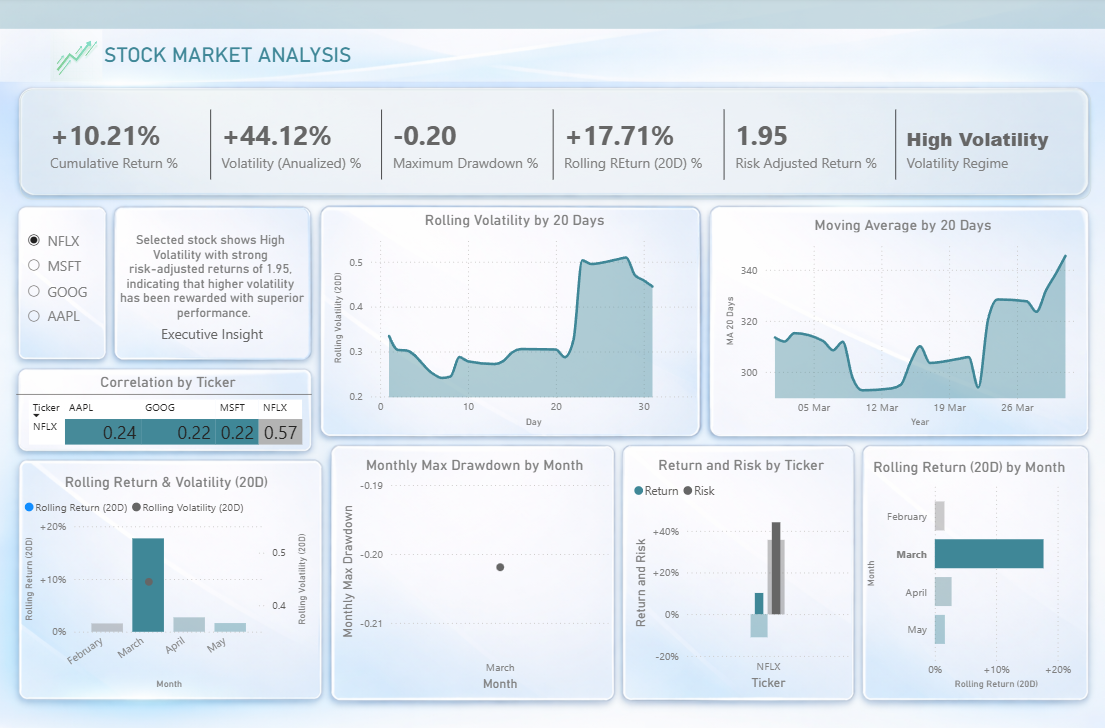

This screenshot's page, from the dashboard's own definition file:
{"tool":"powerbi","page":{"name":"Page 1","canvas":[1280,848],"ordinal":0},"visuals":[{"type":"slicer","fields":{"Values":["stocks.Ticker"]},"box":[19.2,247.7,103.1,174.6],"z":0},{"type":"clusteredColumnChart","fields":{"Category":["stocks.Ticker"],"Y":["stocks.Cumulative Return %","stocks.Volatility (Annualised)"]},"box":[721.1,522.2,265.6,290],"z":1000},{"type":"lineChart","title":"Moving Average by 20 Days","fields":{"Y":["stocks.MA 20 Days"],"Category":["stocks.Date.Variation.Date Hierarchy.Year","stocks.Date.Variation.Date Hierarchy.Quarter","stocks.Date.Variation.Date Hierarchy.Month","stocks.Date.Variation.Date Hierarchy.Day"]},"box":[823.3,252.5,431.7,250],"z":2000},{"type":"pivotTable","title":"Correlation by Ticker","fields":{"Rows":["stocks.Ticker"],"Columns":["Tickers_2.Ticker"],"Values":["stocks.Correlation"]},"box":[19.4,418.8,341.9,120],"z":3000},{"type":"clusteredBarChart","fields":{"Category":["stocks.Date.Variation.Date Hierarchy.Year","stocks.Date.Variation.Date Hierarchy.Quarter","stocks.Date.Variation.Date Hierarchy.Month","stocks.Date.Variation.Date Hierarchy.Day"],"Y":["stocks.Rolling Return (20D)"]},"box":[997.8,521.1,257.8,291.1],"z":4000},{"type":"lineChart","title":"Rolling Volatility by 20 Days","fields":{"Category":["stocks.Date.Variation.Date Hierarchy.Year","stocks.Date.Variation.Date Hierarchy.Quarter","stocks.Date.Variation.Date Hierarchy.Month","stocks.Date.Variation.Date Hierarchy.Day"],"Y":["stocks.Rolling Volatility (20D)"]},"box":[370.9,247.3,438.2,262.7],"z":5000},{"type":"lineClusteredColumnComboChart","title":"Rolling Return & Volatility (20D)","fields":{"Category":["stocks.Date.Variation.Date Hierarchy.Year","stocks.Date.Variation.Date Hierarchy.Quarter","stocks.Date.Variation.Date Hierarchy.Month","stocks.Date.Variation.Date Hierarchy.Day"],"Y":["stocks.Rolling Return (20D)"],"Y2":["stocks.Rolling Volatility (20D)"]},"box":[22.5,538.8,348.8,273.8],"z":6000},{"type":"card","fields":{"Values":["stocks.Executive Insight"]},"box":[132.3,247.7,224.6,171.5],"z":7000},{"type":"lineChart","fields":{"Category":["stocks.Date.Variation.Date Hierarchy.Year","stocks.Date.Variation.Date Hierarchy.Quarter","stocks.Date.Variation.Date Hierarchy.Month","stocks.Date.Variation.Date Hierarchy.Day"],"Y":["stocks.Monthly Max Drawdown"]},"box":[383.3,521.1,325.6,291.1],"z":8000},{"type":"cardVisual","fields":{"Data":["stocks.Cumulative Return %","stocks.Volatility (Annualised)","stocks.Maximum Drawdown %","stocks.Rolling Return (20D)","stocks.Risk Adjusted Return (Fixed)","stocks.Volatility Regime"]},"box":[22.5,106.7,1238.3,127.5],"z":9000},{"type":"textbox","box":[78.3,48.3,333.3,40],"z":10000},{"type":"shape","box":[0,0,1280,37.1],"z":10001},{"type":"image","box":[52.9,37.1,70,60],"z":10002}]}

Visuals, with their boxes in screenshot pixels (x1, y1, x2, y2), scaled from the page's 1280x848 canvas onto the 1105x728 screenshot:
slicer - stocks.Ticker: left=17, top=213, right=106, bottom=363
clusteredColumnChart - stocks.Ticker x stocks.Cumulative Return %: left=623, top=448, right=852, bottom=697
"Moving Average by 20 Days" lineChart: left=711, top=217, right=1083, bottom=431
"Correlation by Ticker" pivotTable: left=17, top=360, right=312, bottom=463
clusteredBarChart - stocks.Date.Variation.Date Hierarchy.Year x stocks.Date.Variation.Date Hierarchy.Quarter: left=861, top=447, right=1084, bottom=697
"Rolling Volatility by 20 Days" lineChart: left=320, top=212, right=698, bottom=438
"Rolling Return & Volatility (20D)" lineClusteredColumnComboChart: left=19, top=463, right=321, bottom=698
card - stocks.Executive Insight: left=114, top=213, right=308, bottom=360
lineChart - stocks.Date.Variation.Date Hierarchy.Year x stocks.Date.Variation.Date Hierarchy.Quarter: left=331, top=447, right=612, bottom=697
cardVisual - stocks.Cumulative Return % x stocks.Volatility (Annualised): left=19, top=92, right=1088, bottom=201
textbox: left=68, top=41, right=355, bottom=76
shape: left=0, top=0, right=1104, bottom=32
image: left=46, top=32, right=106, bottom=83
